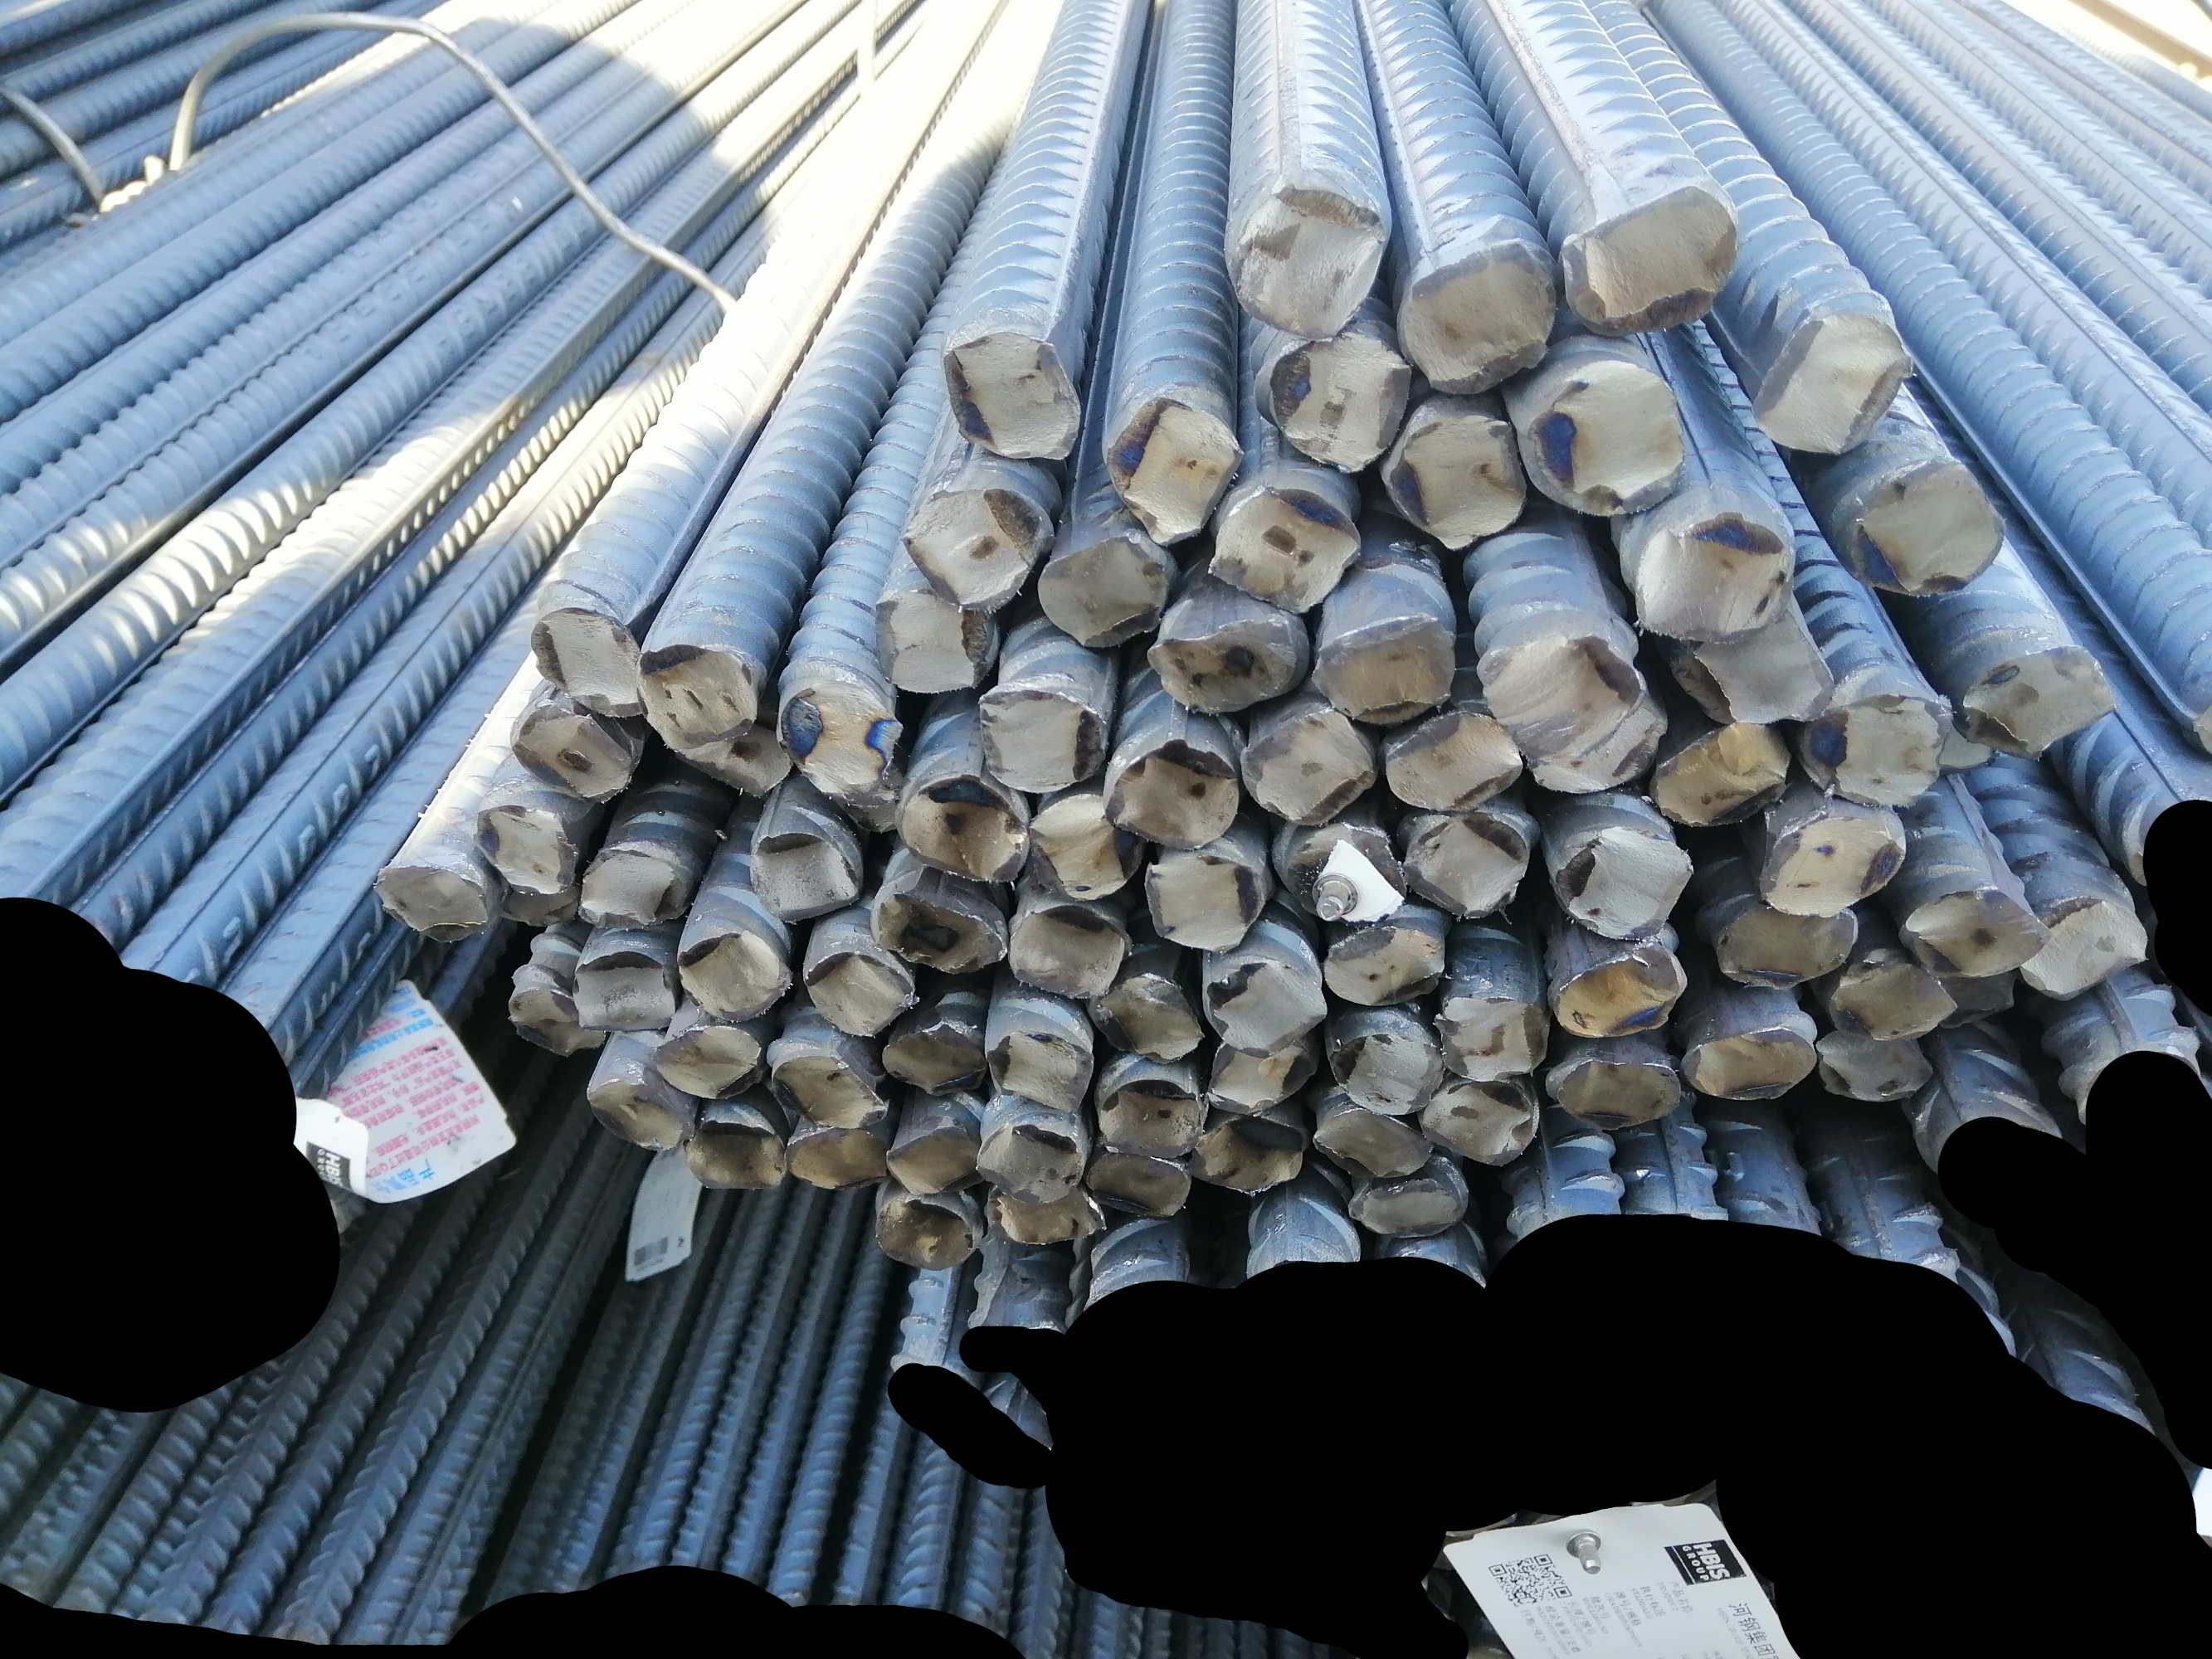rebar: (1522, 356, 1691, 519), (1398, 244, 1572, 399), (1562, 190, 1743, 338), (1227, 186, 1386, 345), (1752, 312, 1909, 458), (1849, 460, 2008, 601), (1630, 511, 1795, 643), (1475, 636, 1644, 762), (1267, 331, 1414, 476), (1109, 397, 1241, 545), (1213, 488, 1361, 620), (1382, 415, 1523, 549), (903, 486, 1048, 617), (945, 333, 1084, 464), (1966, 640, 2114, 762), (1691, 603, 1835, 727), (1236, 711, 1375, 831), (1809, 694, 1951, 812), (1035, 532, 1170, 655), (898, 767, 1032, 889), (1145, 610, 1300, 713), (1654, 716, 1792, 831), (1766, 807, 1907, 918), (1555, 829, 1693, 943), (1379, 711, 1525, 816), (1313, 620, 1457, 723), (1530, 695, 1677, 796), (1112, 741, 1245, 852), (976, 685, 1107, 796), (1025, 788, 1149, 903), (779, 681, 905, 795), (1403, 812, 1530, 924), (526, 605, 647, 721), (631, 643, 758, 751), (1201, 951, 1328, 1058), (1902, 889, 2048, 981), (2029, 894, 2151, 1004), (1314, 917, 1455, 1011), (1715, 896, 1858, 988), (873, 587, 995, 695), (1546, 950, 1687, 1040), (1276, 826, 1407, 924), (511, 701, 636, 802), (866, 887, 1006, 974), (675, 929, 800, 1025), (1142, 857, 1264, 955), (1546, 1049, 1686, 1134), (1679, 1023, 1818, 1108), (1421, 1068, 1537, 1169), (1014, 904, 1126, 1004), (671, 711, 793, 802), (371, 863, 497, 950), (1332, 1025, 1447, 1119), (1438, 990, 1553, 1084), (1813, 1019, 1938, 1105), (469, 800, 580, 896), (1834, 958, 1959, 1042), (798, 950, 919, 1037), (1089, 971, 1203, 1063), (985, 1018, 1093, 1114), (748, 831, 859, 924), (1191, 1110, 1311, 1195), (772, 1044, 885, 1133), (1314, 1101, 1435, 1183), (973, 1119, 1081, 1208), (570, 950, 682, 1035), (572, 847, 683, 932), (1346, 1166, 1469, 1241), (652, 1019, 763, 1101), (882, 1014, 990, 1098), (981, 1175, 1107, 1244), (506, 979, 612, 1061), (586, 1072, 692, 1154), (1084, 1145, 1196, 1222), (1208, 1032, 1320, 1108), (1098, 1079, 1204, 1159), (683, 1114, 790, 1192), (875, 1192, 974, 1270), (779, 1117, 885, 1190), (879, 1127, 983, 1195), (1923, 965, 2024, 1030), (831, 758, 910, 833), (492, 871, 584, 932)
